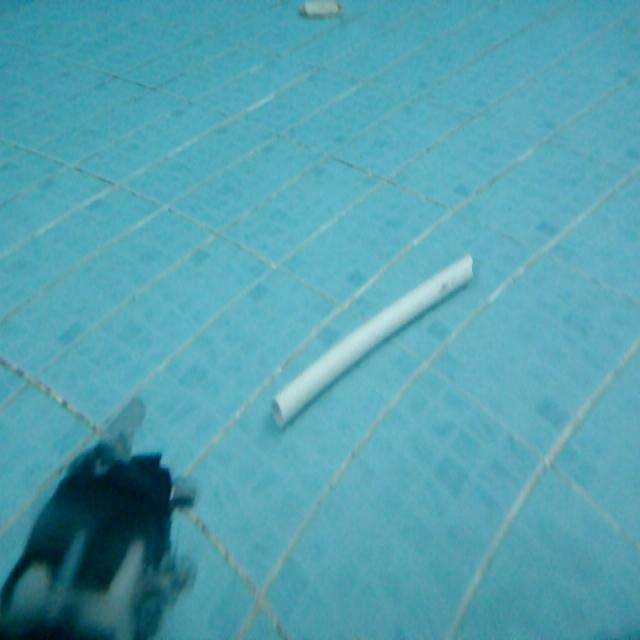Cube: (267, 248, 476, 429)
